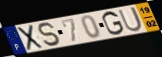0: (81, 14, 104, 40)
7: (60, 18, 78, 43)
G: (101, 10, 126, 36)
S: (37, 21, 63, 47)
U: (117, 6, 144, 33)
X: (17, 24, 45, 52)
